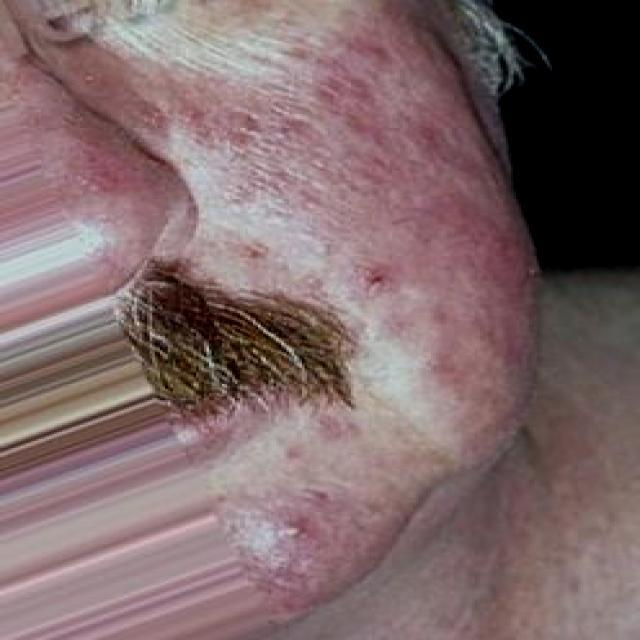Rosacea: (155, 9, 546, 382), (210, 486, 400, 604), (19, 64, 151, 217)
